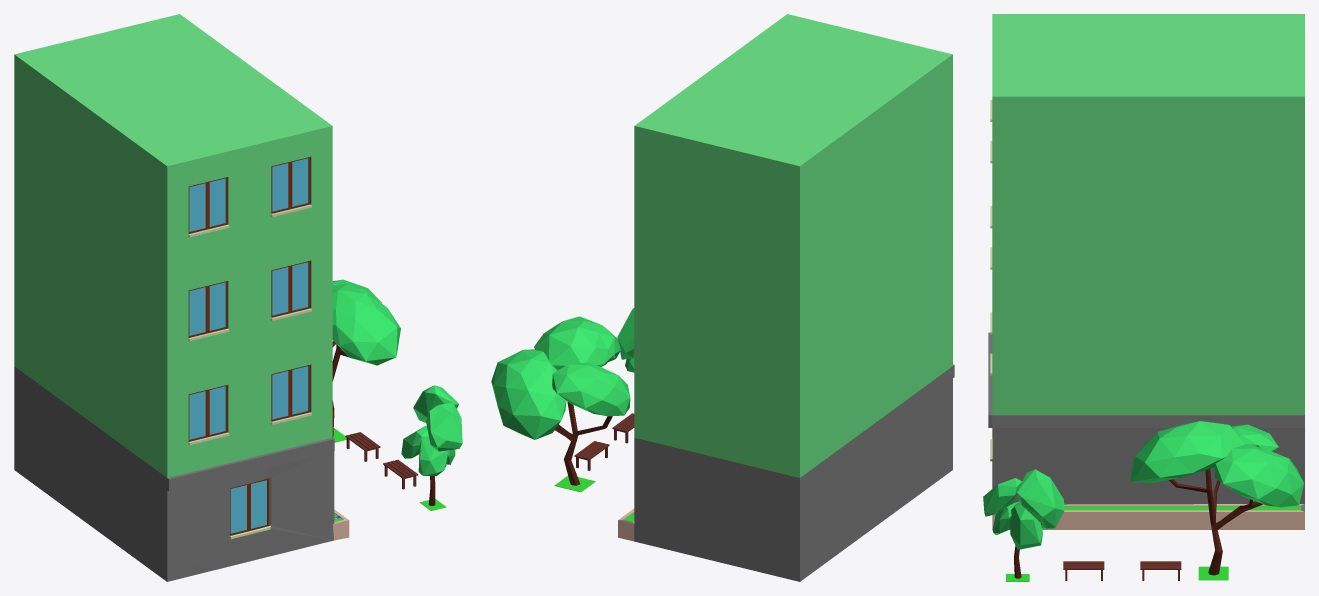
The model's file is SM_Building03.fbx.
3 views of the same model, side by side, from view 1: azimuth 30°, elevation 25°; view 2: azimuth 150°, elevation 25°; view 3: azimuth 270°, elevation 25° (orthographic). The views are drawn at different scales.
Parts seen in each view (by area): view 1: SM_Building03; view 2: SM_Building03; view 3: SM_Building03.
Part boxes in pixels (x1,y1,x2,y2): SM_Building03: (14,14,462,581); SM_Building03: (491,14,954,581); SM_Building03: (983,14,1304,581).
Bounding box in the file's own units: 501 × 601 × 412.
